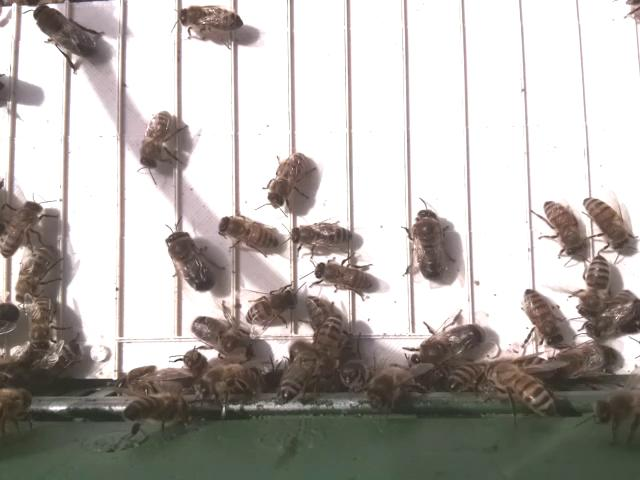Drone: (31, 3, 102, 61), (161, 229, 220, 295), (408, 323, 488, 368), (188, 311, 253, 362), (408, 206, 450, 283)
Worker: (217, 210, 285, 254), (540, 197, 583, 263), (584, 193, 632, 251), (0, 198, 46, 257), (133, 109, 174, 173), (264, 150, 307, 211), (520, 283, 560, 348), (576, 251, 614, 318), (16, 243, 57, 304), (173, 2, 250, 34), (308, 259, 377, 293), (243, 286, 298, 327), (290, 221, 356, 250), (313, 309, 345, 365)
